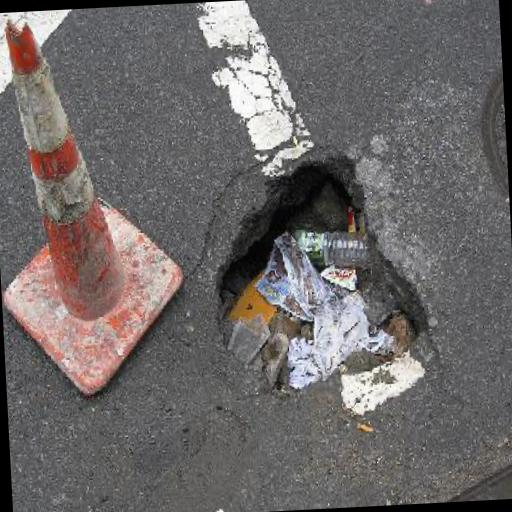pothole: (204, 145, 432, 400)
